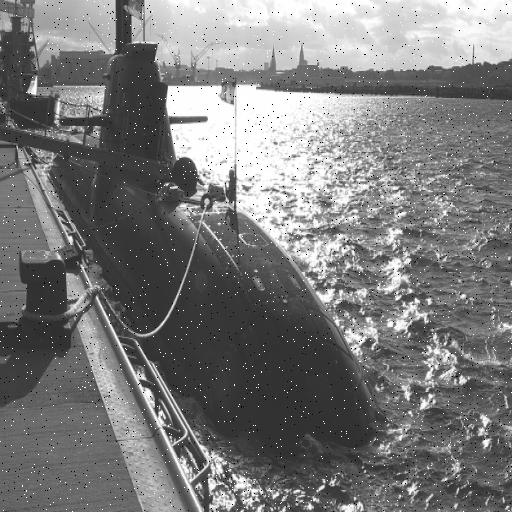submarine: (67, 1, 388, 444)
